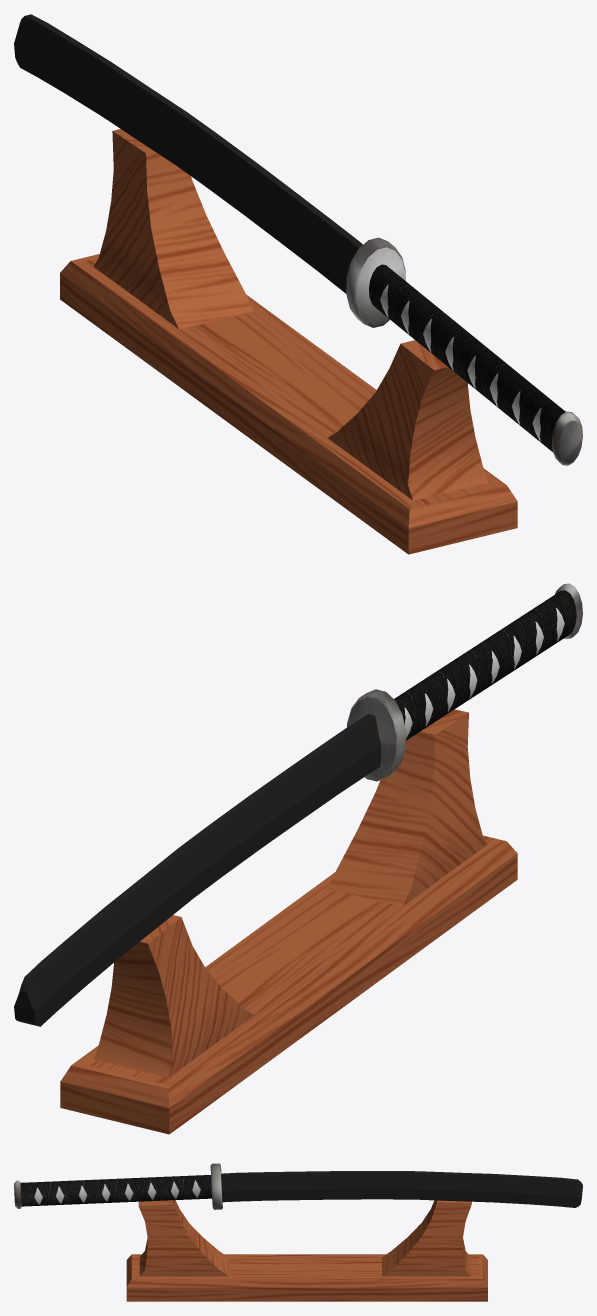
File: Soporte3.fbx
3 renders of one model, top to bottom at view 1: azimuth 30°, elevation 25°; view 2: azimuth 150°, elevation 25°; view 3: azimuth 270°, elevation 25°, orthographic. The views are drawn at different scales.
Visible parts, largest first — view 1: Cube.012, Katana.004; view 2: Cube.012, Katana.004; view 3: Cube.012, Katana.004.
Part boxes in pixels (x1,y1,x2,y2): Cube.012: (60,129,517,554); Katana.004: (14,14,582,465); Cube.012: (60,709,517,1134); Katana.004: (14,583,582,1026); Cube.012: (126,1200,487,1301); Katana.004: (14,1163,582,1209).
Bounding box in the file's own units: 21.47 × 44.58 × 187.
